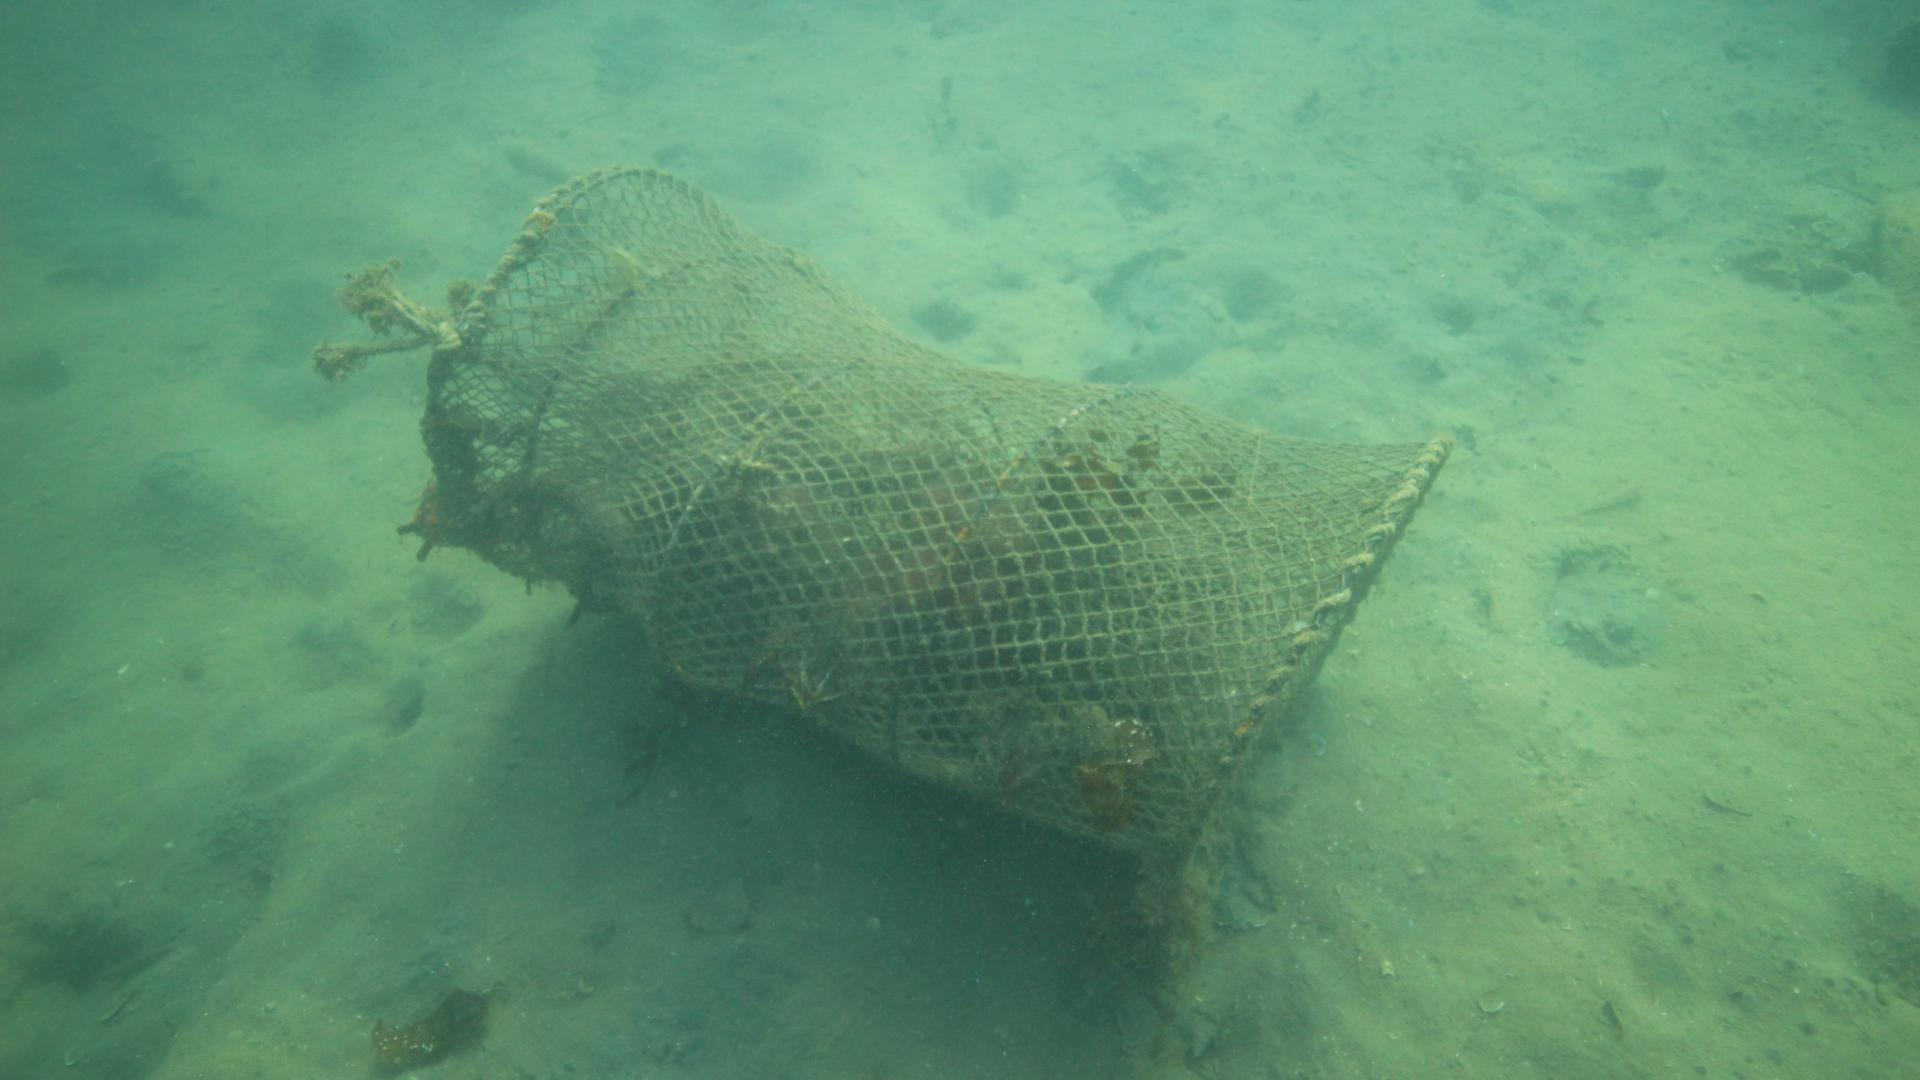spring fish trap: (425, 162, 1456, 870)
